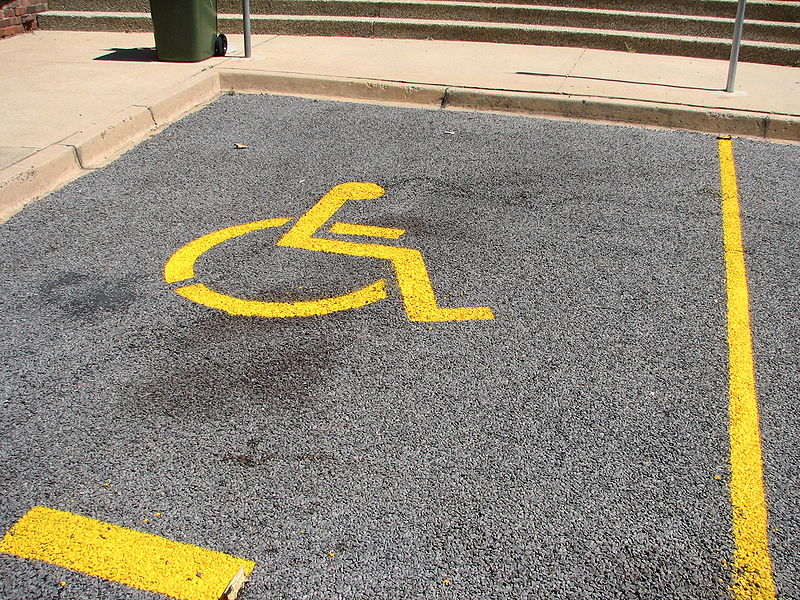empyt_space: (3, 66, 800, 599)
